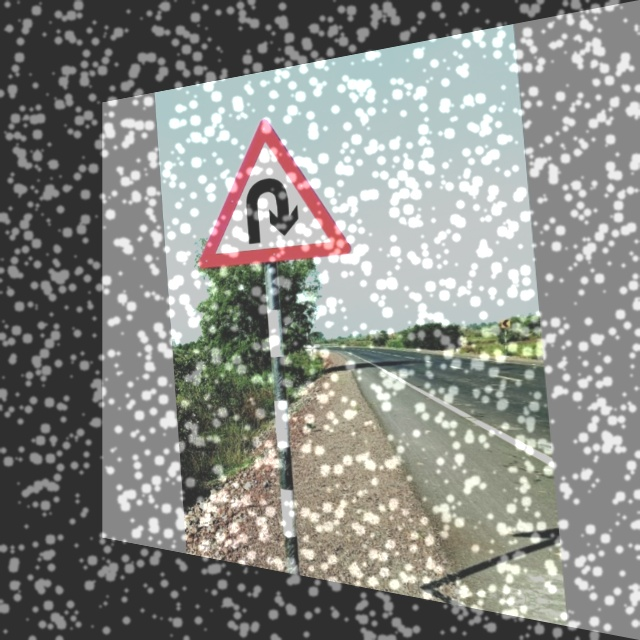Right_Hair_Pin_Bend: (199, 99, 348, 270)
